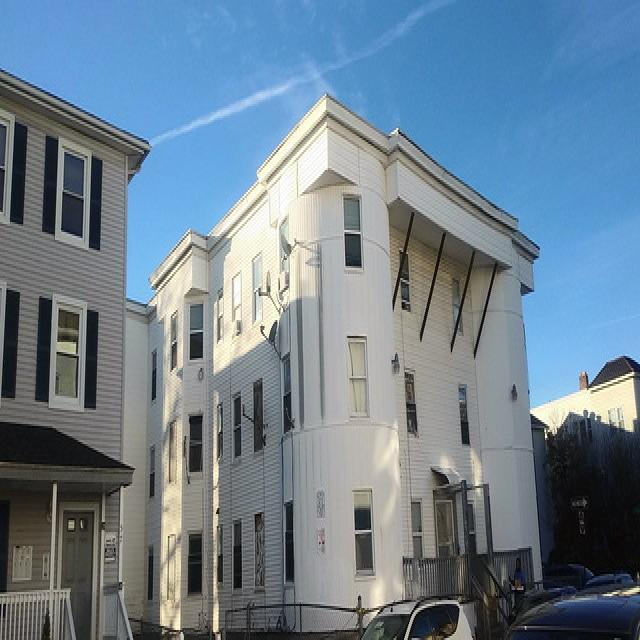building: (150, 93, 545, 633)
